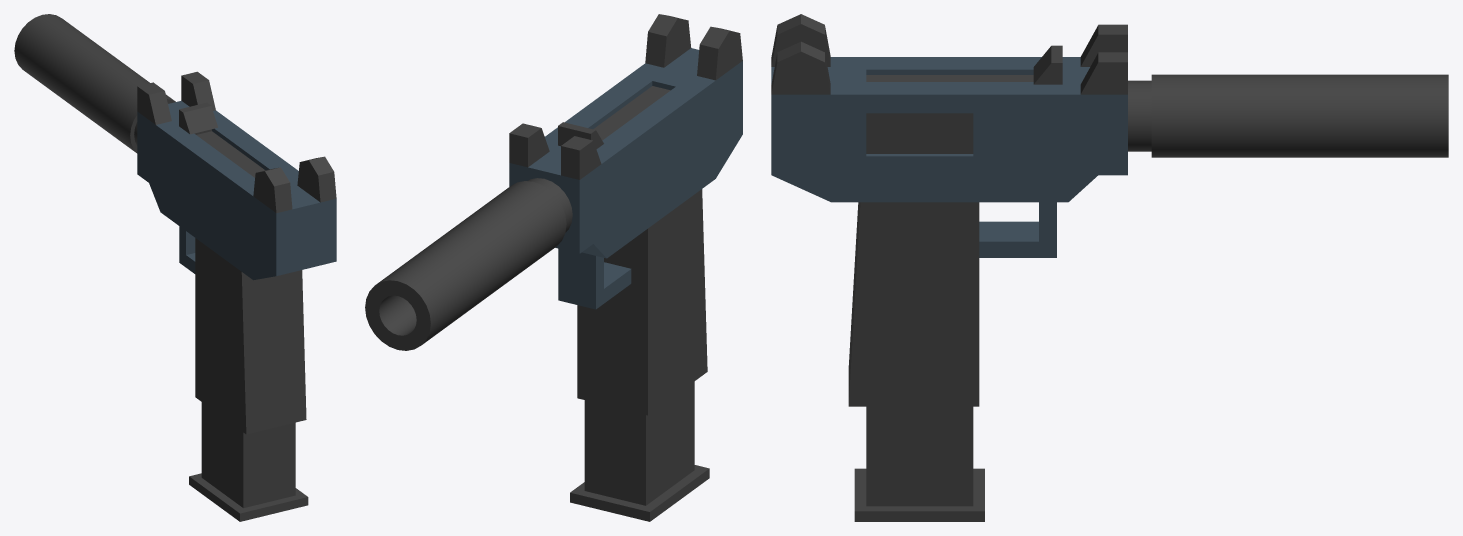
The model's file is uziSilencer.obj.
3 views of the same model, side by side, from view 1: azimuth 30°, elevation 25°; view 2: azimuth 150°, elevation 25°; view 3: azimuth 270°, elevation 25° (orthographic). The views are drawn at different scales.
Parts seen in each view (by area): view 1: Group; view 2: Group; view 3: Group.
Boxes of the visible parts, x1,y1,x2,y2 form: Group: (14,14,336,521); Group: (365,14,742,521); Group: (771,14,1448,521).
Size of the model in its own units: 0.0651 by 0.333 by 0.4368.
